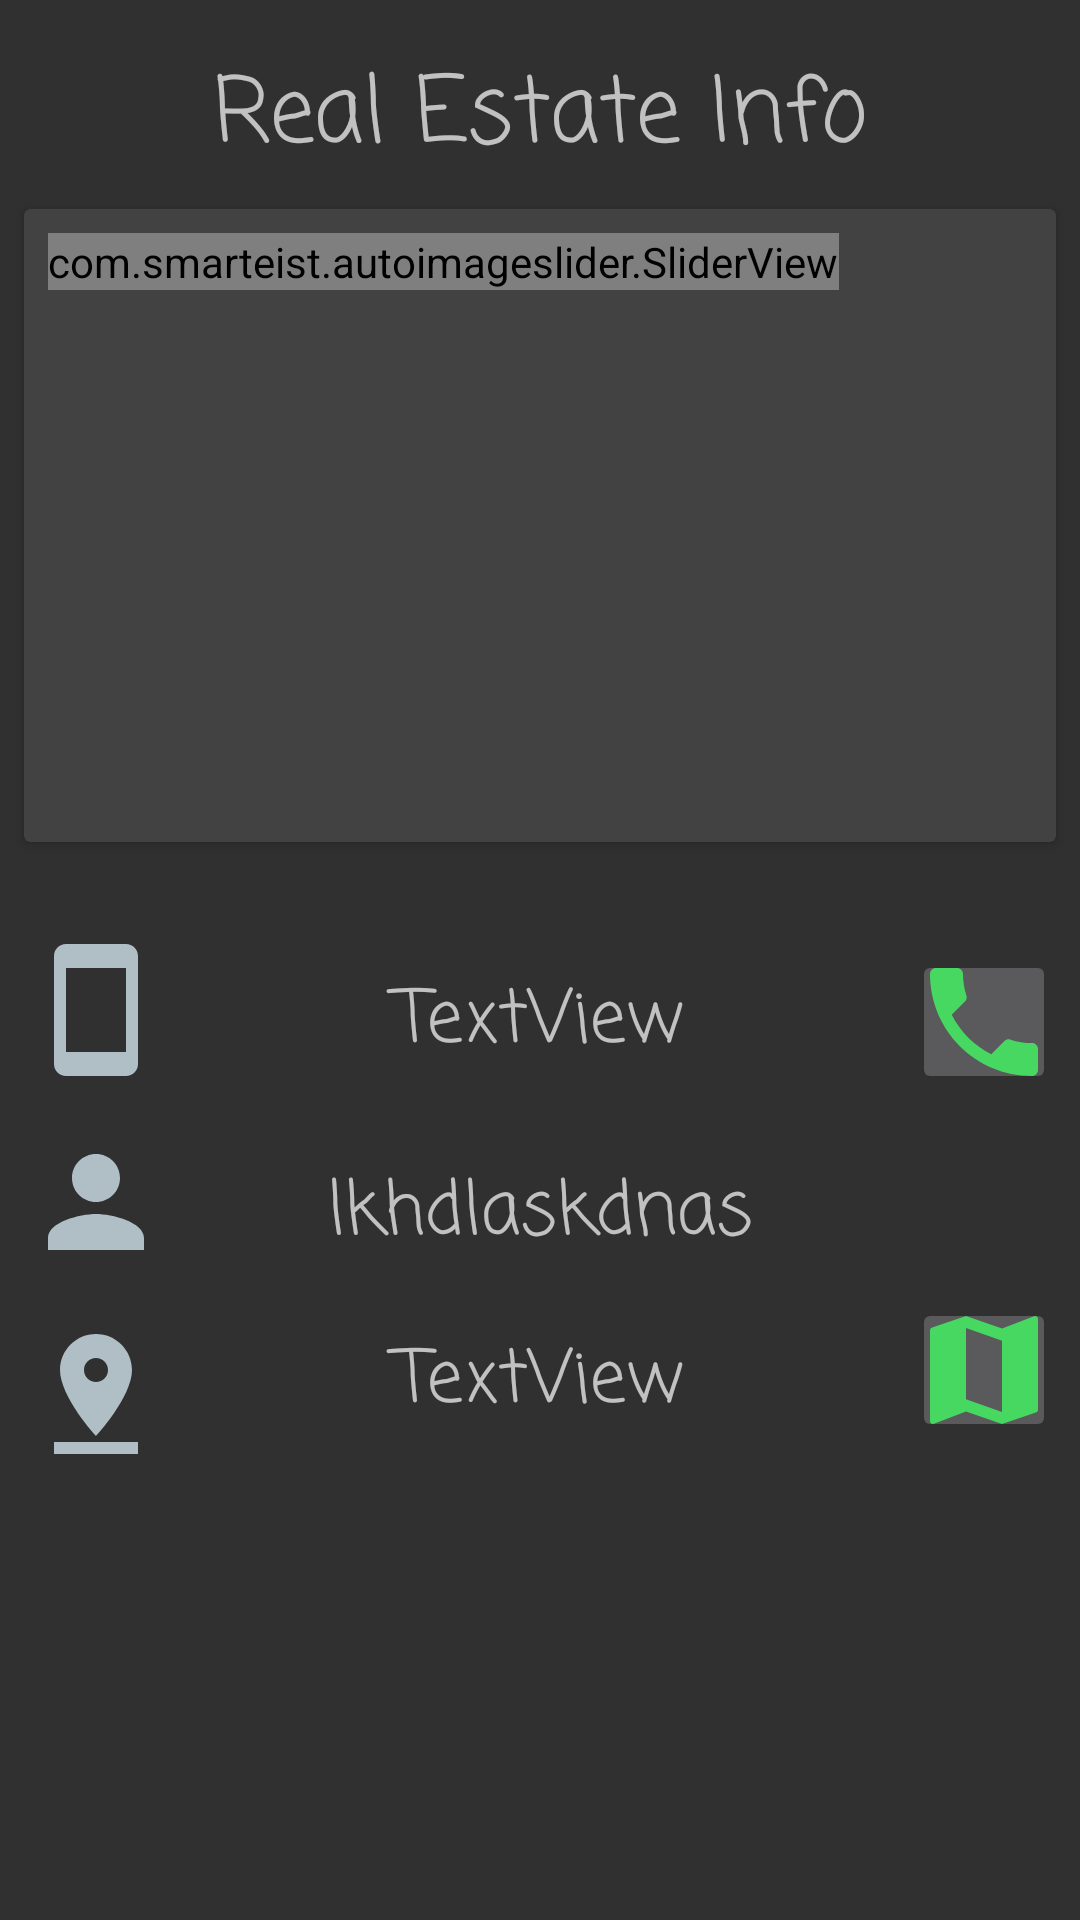

Point at icon controls on the screen. Image size 1080×1920, points as (x,y).
call: (984,1022)
map: (984,1370)
person: (96,1202)
pin drop: (96,1394)
smartphone: (96,1010)
